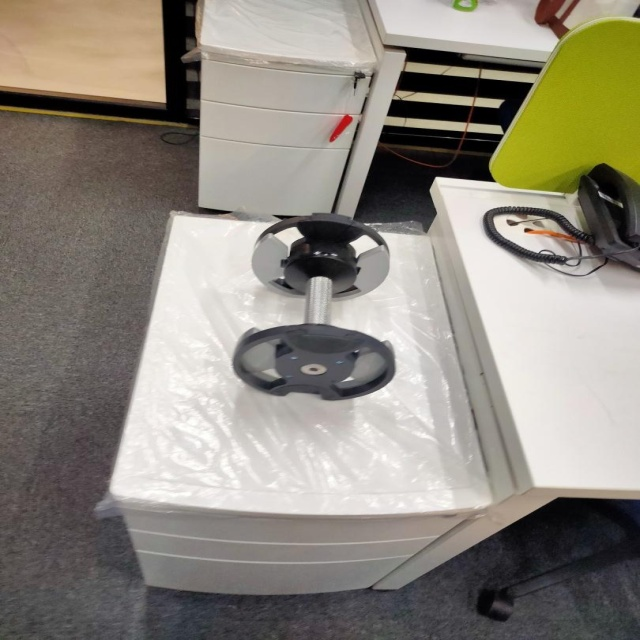02-4kg: (233, 214, 396, 401)
